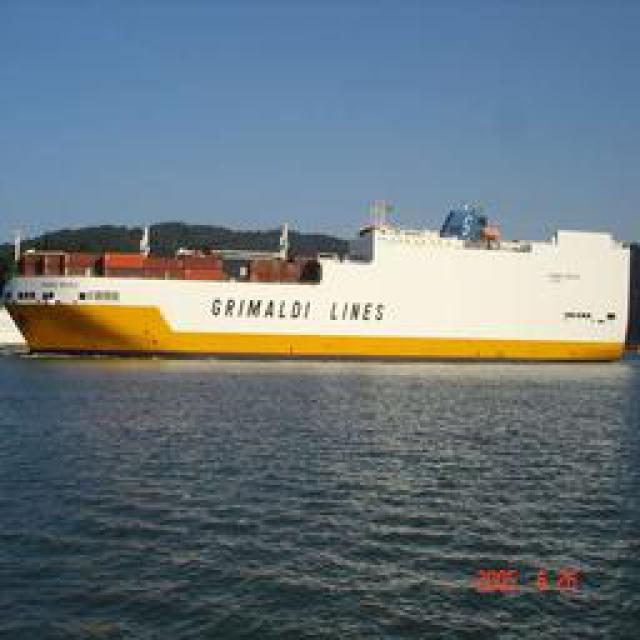Ship: (5, 195, 635, 368)
